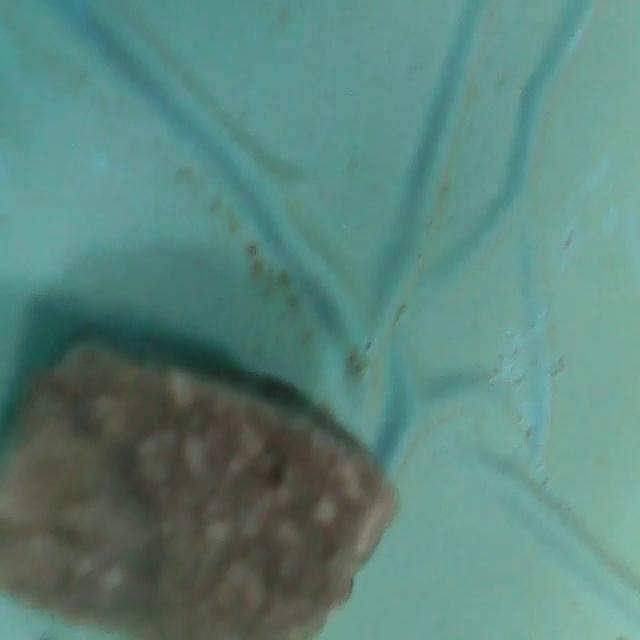rock: (0, 318, 409, 640)
